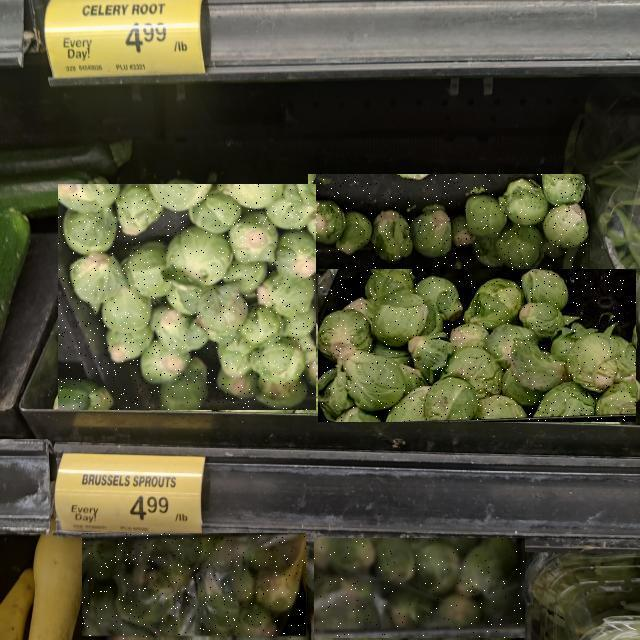Brussel Sprouts: (58, 184, 316, 410), (319, 269, 637, 422), (308, 174, 590, 274), (82, 534, 306, 640), (314, 539, 525, 639)
